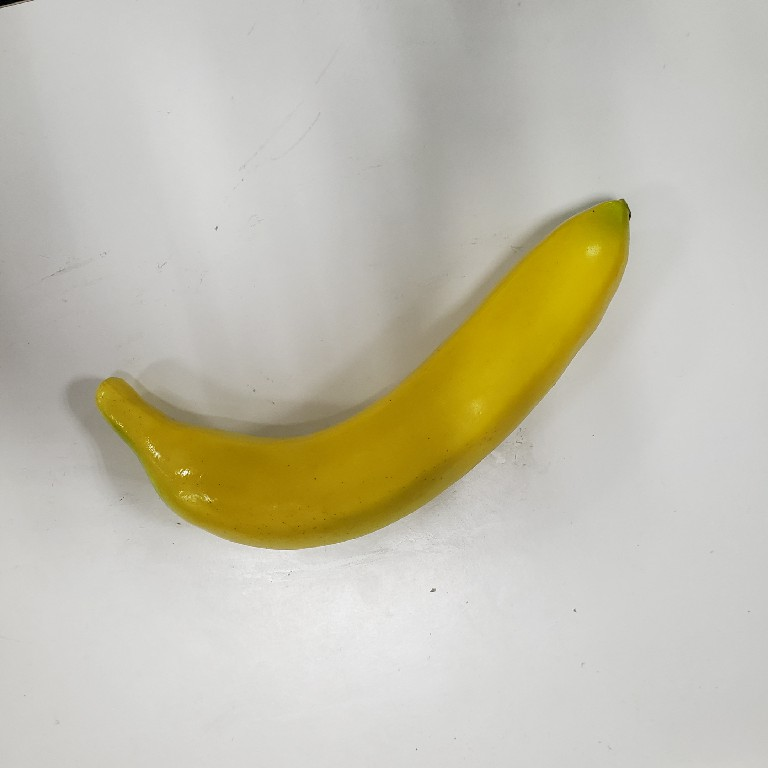fruit_banana: (87, 187, 640, 561)
